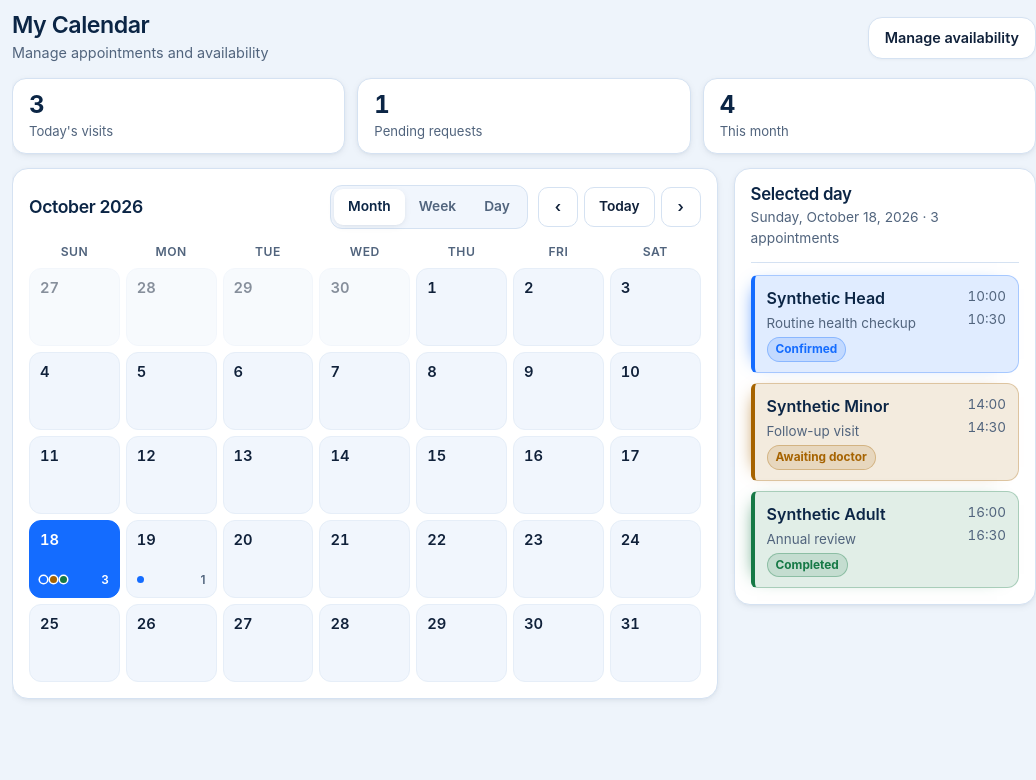
Test case: DoctorCalendarPage › updates the agenda when another date is selected
Expected: the text "Synthetic Head" is shown, [767,286,885,310]
Week view always contains tomorrow or, on a Saturday, needs one step forward.
Click the button "Day": (497, 207) [470,189,524,225]
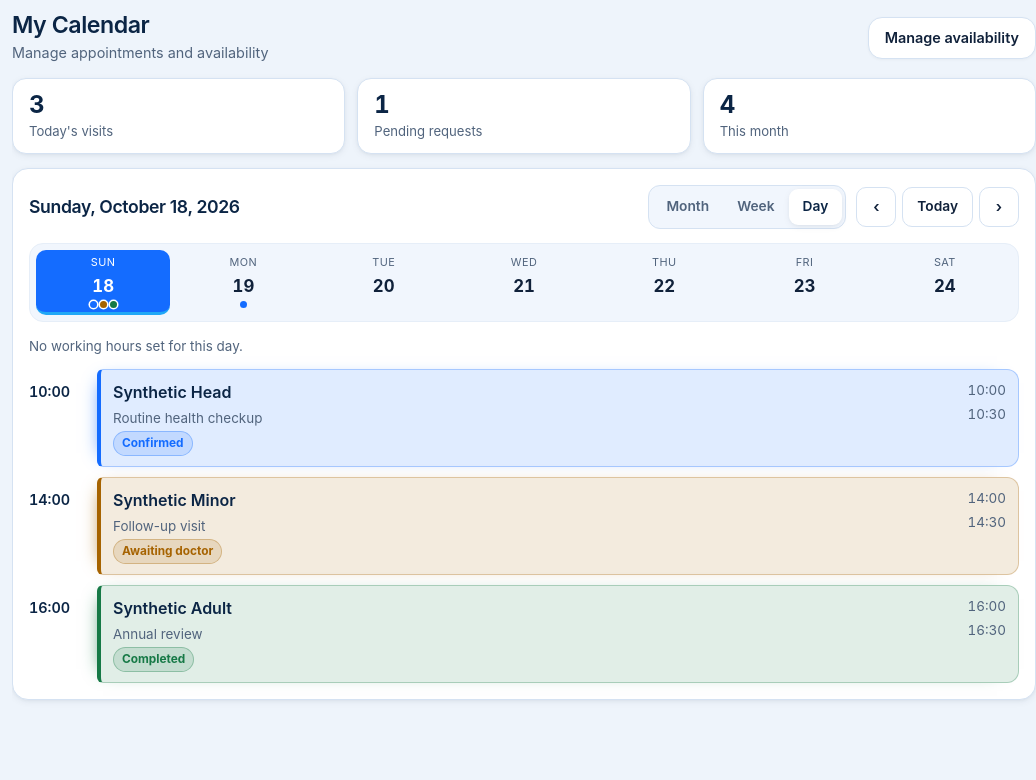
Click the button named "Next day": (999, 207) [979,187,1019,227]
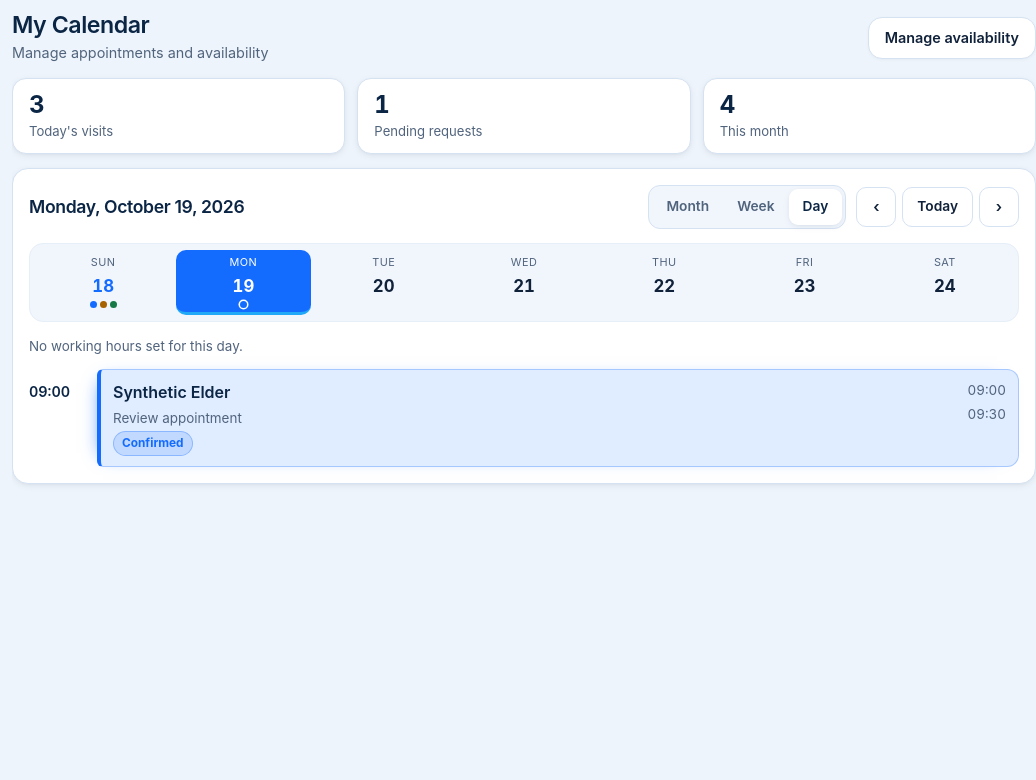
Result: the text "Synthetic Elder" is shown at [113,380,230,405]
Result: the button "Synthetic Head" is gone
Click the button "Today": (938, 207) [902,187,973,227]
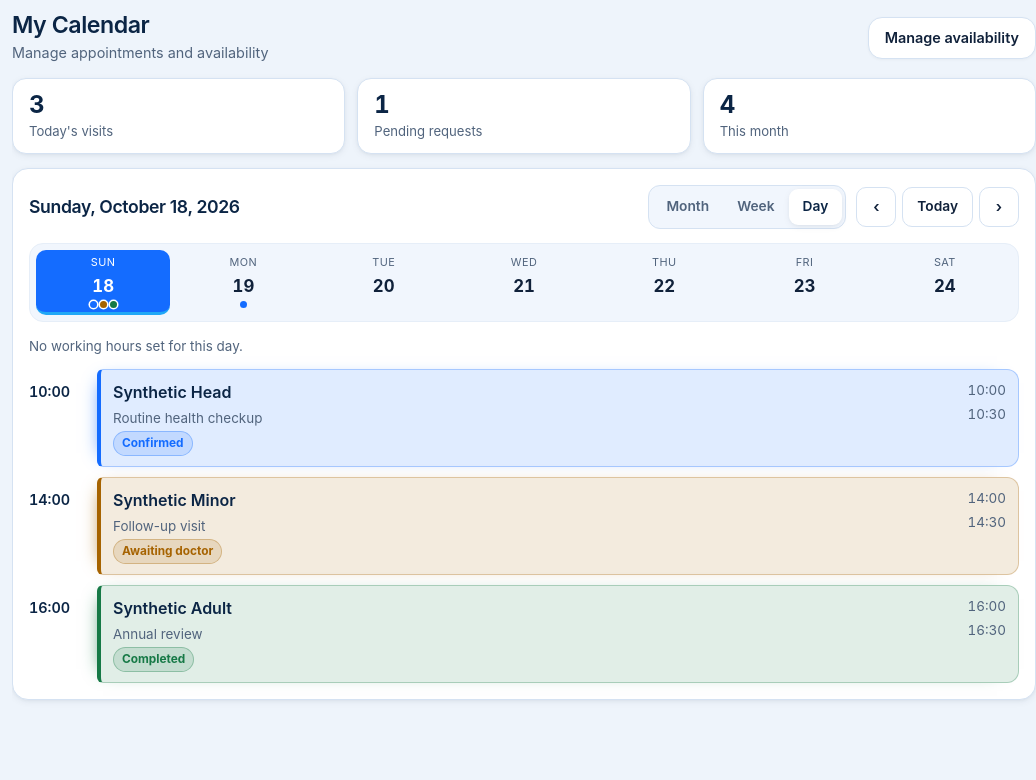
Result: the text "Synthetic Head" is shown at [113,380,232,405]
